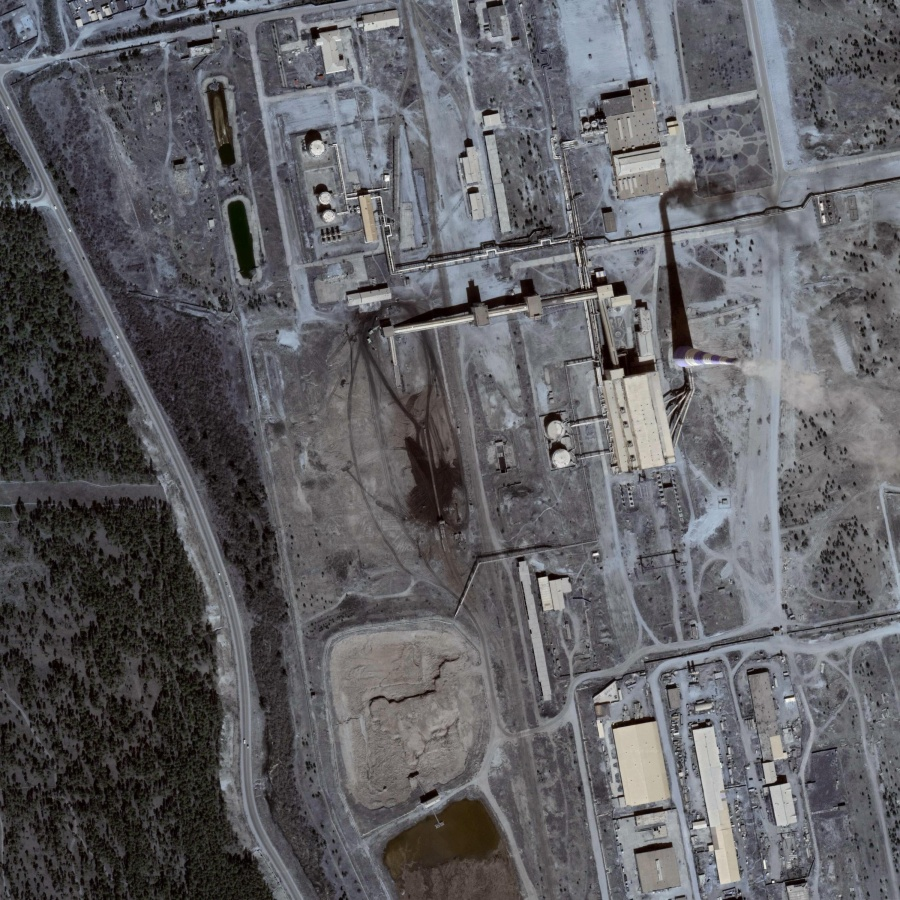PowerPlant: (284, 116, 762, 544)
